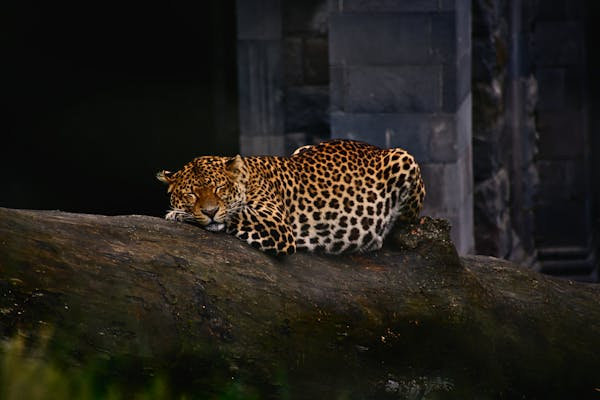Leopard: (155, 140, 427, 261)
